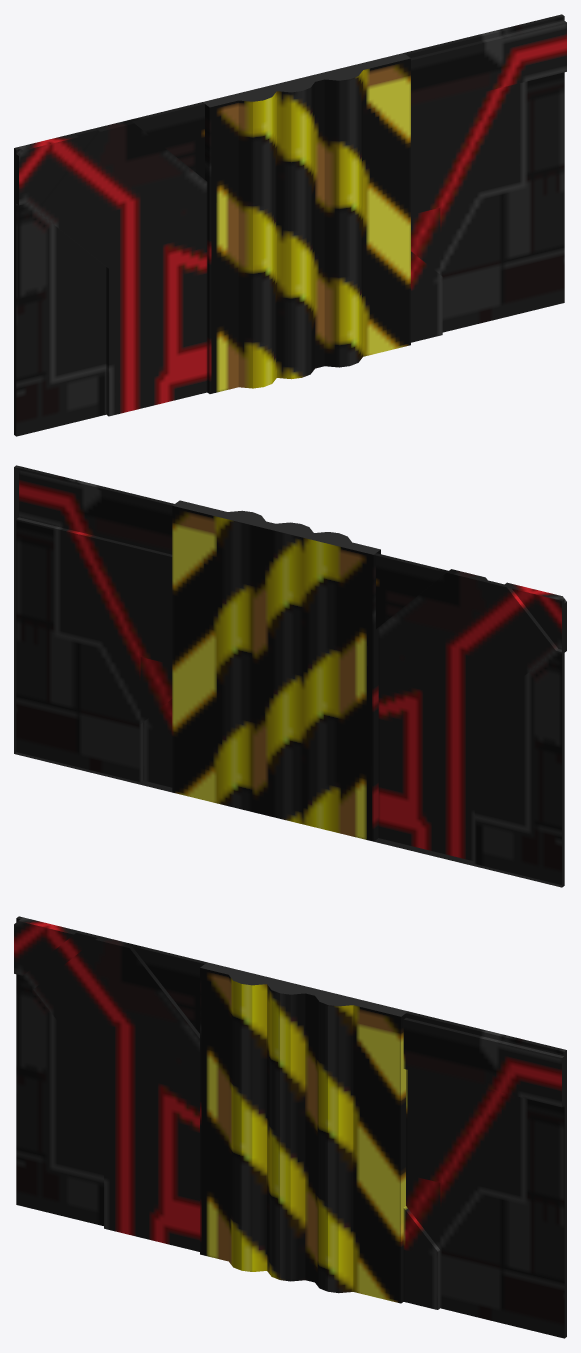
File: reac2_4_slice128lower.fbx
3 views of the same model, one above another, from view 1: azimuth 30°, elevation 25°; view 2: azimuth 150°, elevation 25°; view 3: azimuth 330°, elevation 25° (orthographic).
Visible parts, largest first — view 1: reac2_4_slice128lower_mesh; view 2: reac2_4_slice128lower_mesh; view 3: reac2_4_slice128lower_mesh.
Boxes of the visible parts, bbox=[...] form: reac2_4_slice128lower_mesh: bbox=[14, 14, 566, 436]; reac2_4_slice128lower_mesh: bbox=[14, 465, 566, 887]; reac2_4_slice128lower_mesh: bbox=[14, 916, 566, 1338].
Bounding box in the file's own units: 256 × 128 × 11.
